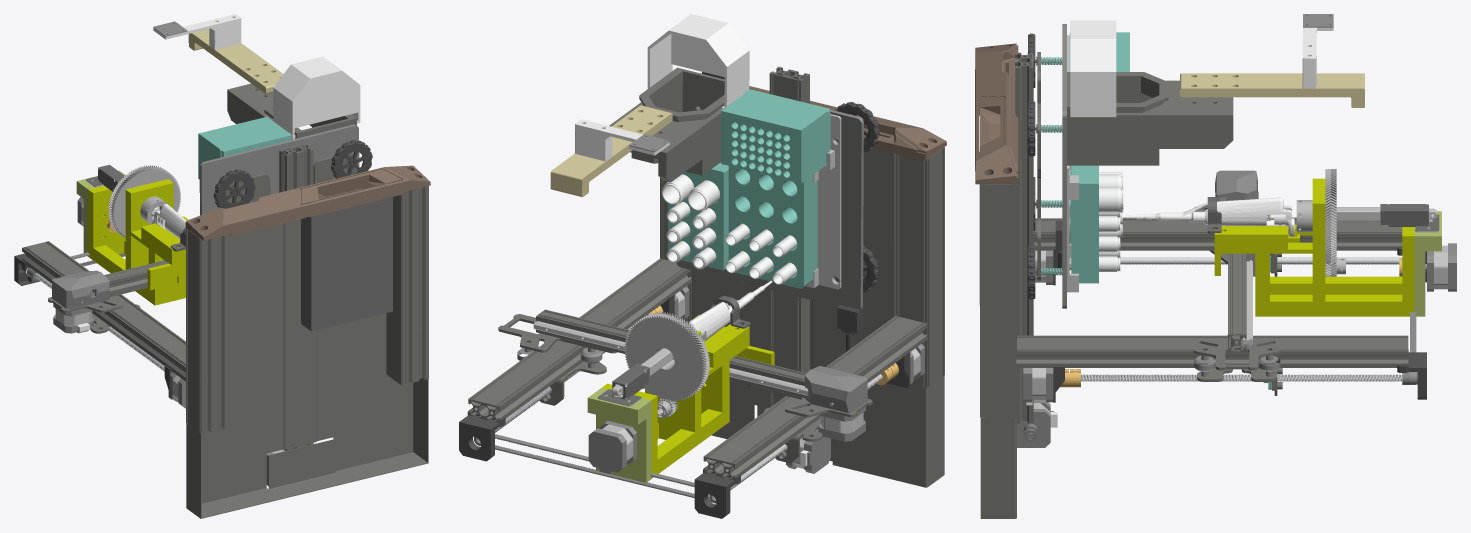
Rendered from heimdall.compressed.glb.
3 views of the same model, side by side, from view 1: azimuth 30°, elevation 25°; view 2: azimuth 150°, elevation 25°; view 3: azimuth 270°, elevation 25° (orthographic). The views are drawn at different scales.
Parts seen in each view (by area): view 1: Node5, Node14, Node29, Node22, Node17, Node11, Node30, Node6, Node20, Node15, Node24, Node25 (+2 smaller); view 2: Node5, Node17, Node30, Node26, Node11, Node29, Node18, Node31, Node15, Node24, Node6, Node20 (+9 smaller); view 3: Node5, Node29, Node17, Node22, Node24, Node11, Node20, Node27, Node18, Node31, Node2, Node6 (+10 smaller).
Part boxes in pixels (<box>): Node5: <box>22,83,428,518</box>; Node14: <box>86,165,392,331</box>; Node29: <box>88,179,188,305</box>; Node22: <box>185,165,430,240</box>; Node17: <box>77,14,360,331</box>; Node11: <box>52,124,359,485</box>; Node30: <box>198,117,291,179</box>; Node6: <box>164,140,372,399</box>; Node20: <box>188,29,283,93</box>; Node15: <box>111,167,180,237</box>; Node24: <box>225,143,350,450</box>; Node25: <box>55,204,283,453</box>; Node5: <box>468,67,944,487</box>; Node17: <box>575,14,912,466</box>; Node30: <box>721,89,830,183</box>; Node26: <box>728,166,817,288</box>; Node11: <box>588,89,924,474</box>; Node29: <box>602,314,774,478</box>; Node18: <box>533,114,841,406</box>; Node31: <box>662,174,797,284</box>; Node15: <box>624,312,709,401</box>; Node24: <box>769,66,809,407</box>; Node6: <box>459,72,910,461</box>; Node20: <box>550,105,672,197</box>; Node5: <box>980,52,1408,518</box>; Node29: <box>1214,178,1414,316</box>; Node17: <box>1026,16,1333,427</box>; Node22: <box>975,43,1018,184</box>; Node24: <box>1015,52,1040,423</box>; Node11: <box>1012,24,1456,447</box>; Node20: <box>1180,73,1364,107</box>; Node27: <box>1071,165,1098,283</box>; Node18: <box>1067,35,1439,345</box>; Node31: <box>1099,172,1123,271</box>; Node2: <box>1081,374,1402,381</box>; Node6: <box>1028,33,1426,399</box>.
Size of the model in its own units: 454 by 538 by 521.
